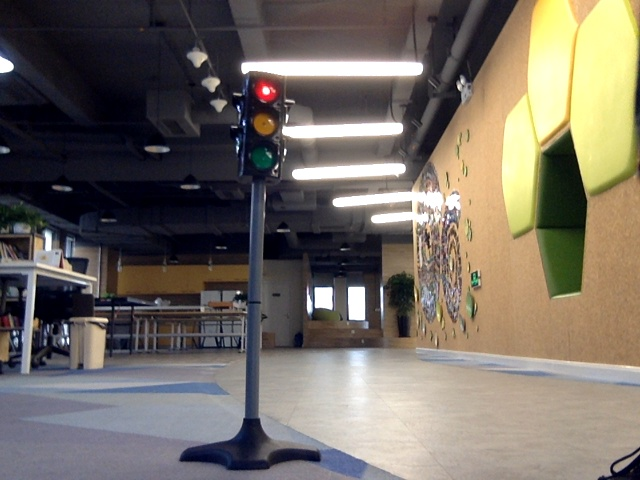red: (243, 73, 282, 173)
